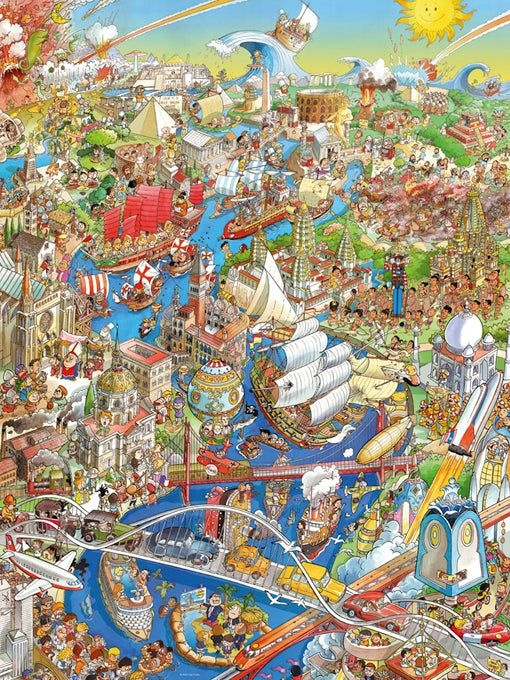waldo: (384, 253, 409, 318)
